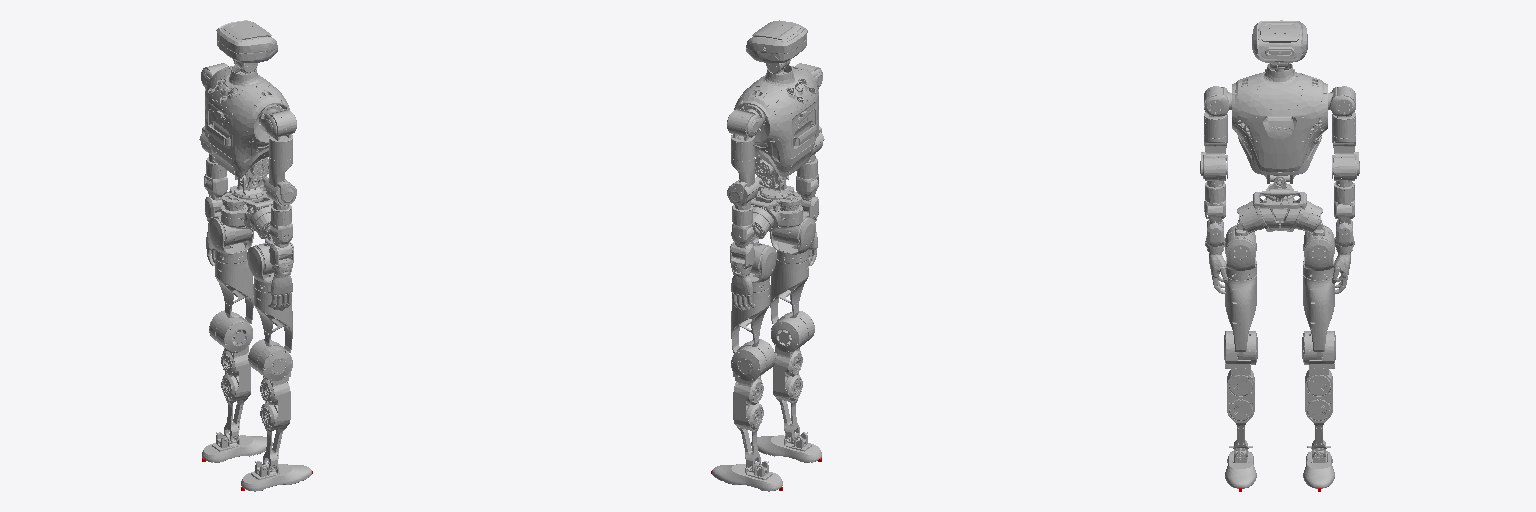
--- Render facts (derived) ---
3 views of the same robot in one strip: view 1: azimuth 30°, elevation 25°; view 2: azimuth 150°, elevation 25°; view 3: azimuth 270°, elevation 25° (orthographic).
Model HU_D04_01 with 42 links and 41 joints (31 revolute, 10 fixed), rooted at base_link, posed every joint at zero.
Visible links, largest first — view 1: waist_pitch_link, right_knee_link, left_hip_yaw_link, head_pitch_link, left_knee_link, base_link, right_hip_yaw_link, right_ankle_roll_link, left_ankle_roll_link, right_wrist_roll_link, right_shoulder_roll_link, left_hip_roll_link (+3 smaller); view 2: waist_pitch_link, left_knee_link, right_hip_yaw_link, head_pitch_link, right_knee_link, base_link, left_hip_yaw_link, left_ankle_roll_link, right_ankle_roll_link, left_wrist_roll_link, left_shoulder_roll_link, right_hip_roll_link (+3 smaller); view 3: waist_pitch_link, base_link, left_knee_link, right_knee_link, head_pitch_link, right_hip_yaw_link, left_hip_yaw_link, right_hip_roll_link, left_hip_roll_link, left_wrist_roll_link, right_wrist_roll_link, right_ankle_roll_link (+8 smaller).
Link boxes in pixels (box(x1,y1,x2,y2)): waist_pitch_link: box(205, 65, 289, 188); right_knee_link: box(257, 346, 292, 471); left_hip_yaw_link: box(215, 258, 253, 352); head_pitch_link: box(216, 20, 277, 72); left_knee_link: box(209, 310, 250, 442); base_link: box(221, 185, 272, 238); right_hip_yaw_link: box(248, 287, 292, 373); right_ankle_roll_link: box(241, 461, 311, 491); left_ankle_roll_link: box(202, 432, 272, 462); right_wrist_roll_link: box(268, 242, 293, 310); right_shoulder_roll_link: box(269, 110, 295, 160); left_hip_roll_link: box(208, 218, 253, 263); waist_pitch_link: box(734, 65, 818, 188); left_knee_link: box(731, 346, 766, 471); right_hip_yaw_link: box(770, 258, 808, 352); head_pitch_link: box(746, 20, 807, 72); right_knee_link: box(773, 311, 814, 442); base_link: box(751, 185, 802, 238); left_hip_yaw_link: box(731, 287, 775, 373); left_ankle_roll_link: box(712, 461, 782, 491); right_ankle_roll_link: box(751, 432, 821, 462); left_wrist_roll_link: box(730, 242, 755, 310); left_shoulder_roll_link: box(728, 110, 754, 160); right_hip_roll_link: box(769, 218, 815, 263); waist_pitch_link: box(1232, 63, 1327, 183); base_link: box(1237, 183, 1322, 233); left_knee_link: box(1305, 331, 1335, 456); right_knee_link: box(1224, 331, 1254, 456); head_pitch_link: box(1252, 20, 1307, 68); right_hip_yaw_link: box(1225, 275, 1257, 364); left_hip_yaw_link: box(1302, 275, 1334, 364); right_hip_roll_link: box(1225, 225, 1256, 280); left_hip_roll_link: box(1303, 225, 1334, 280); left_wrist_roll_link: box(1332, 222, 1354, 293); right_wrist_roll_link: box(1205, 220, 1227, 293); right_ankle_roll_link: box(1225, 446, 1256, 488).
Bounding box of the posed robot: 0.2994 × 0.5293 × 1.62 m (x, y, z).
Meshes: 32 distinct files referenced, 32 mesh visuals loaded (32 binary STL).

robot.urdf — HU_D04_01:
<?xml version="1.0" encoding="utf-8"?>
<robot
  name="HU_D04_01">

  <!-- <link name="root_link">
    <inertial>
      <origin xyz="0 0 0" rpy="0 0 0" />
      <mass value="0.001" />
      <inertia ixx="1E-10" ixy="0" ixz="0" iyy="1E-10" iyz="0" izz="1E-10" />
    </inertial>
  </link>
  <joint name="floating_base_joint" type="floating">
    <origin xyz="0.0 0.0 0.0" rpy="0 0 0" />
    <parent link="root_link" />
    <child link="base_link" />
  </joint> -->


  <link name="base_link">
    <inertial>
      <origin
        xyz="0.002916 -8E-06 0.041359"
        rpy="0 0 0" />
      <mass
        value="5.904962" />
      <inertia
        ixx="0.038209"
        ixy="4E-06"
        ixz="0.001989"
        iyy="0.013916"
        iyz="-8E-06"
        izz="0.040472" />
    </inertial>
    <visual>
      <origin
        xyz="0 0 0"
        rpy="0 0 0" />
      <geometry>
        <mesh
          filename="package://HU_D04_description/meshes/HU_D04_01/base_link.STL" />
      </geometry>
      <material
        name="">
        <color
          rgba="0.75294 0.75294 0.75294 1" />
      </material>
    </visual>
    <!-- <collision>
      <origin
        xyz="0 0 0"
        rpy="0 0 0" />
      <geometry>
        <mesh
          filename="package://HU_D04_description/meshes/HU_D04_01/base_link.STL" />
      </geometry>
    </collision> -->
  </link>
  <link name="left_hip_pitch_link">
    <inertial>
      <origin
        xyz="0.0019 0.001536 -0.086008"
        rpy="0 0 0" />
      <mass
        value="2.255011" />
      <inertia
        ixx="0.003233"
        ixy="2E-06"
        ixz="-1.3E-05"
        iyy="0.003816"
        iyz="3.5E-05"
        izz="0.002888" />
    </inertial>
    <visual>
      <origin
        xyz="0 0 0"
        rpy="0 0 0" />
      <geometry>
        <mesh
          filename="package://HU_D04_description/meshes/HU_D04_01/left_hip_pitch_link.STL" />
      </geometry>
      <material
        name="">
        <color
          rgba="0.75294 0.75294 0.75294 1" />
      </material>
    </visual>
    <!-- <collision>
      <origin
        xyz="0 0 0"
        rpy="0 0 0" />
      <geometry>
        <mesh
          filename="package://HU_D04_description/meshes/HU_D04_01/left_hip_pitch_link.STL" />
      </geometry>
    </collision> -->
  </link>
  <joint name="left_hip_pitch_joint"
    type="revolute">
    <origin
      xyz="0.017007 0.1283 0.0081917"
      rpy="0 0 0" />
    <parent
      link="base_link" />
    <child
      link="left_hip_pitch_link" />
    <axis
      xyz="0 0.90631 -0.42262" />
    <limit
      lower="-2.618"
      upper="2.618"
      effort="140"
      velocity="5" />
  </joint>
  <link name="left_hip_roll_link">
    <inertial>
      <origin
        xyz="0.00075 1E-05 -0.118609"
        rpy="0 0 0" />
      <mass
        value="2.121806" />
      <inertia
        ixx="0.004035"
        ixy="3E-06"
        ixz="-0.000137"
        iyy="0.004267"
        iyz="1E-06"
        izz="0.002342" />
    </inertial>
    <visual>
      <origin
        xyz="0 0 0"
        rpy="0 0 0" />
      <geometry>
        <mesh
          filename="package://HU_D04_description/meshes/HU_D04_01/left_hip_roll_link.STL" />
      </geometry>
      <material
        name="">
        <color
          rgba="0.75294 0.75294 0.75294 1" />
      </material>
    </visual>
    <!-- <collision>
      <origin
        xyz="0 0 0"
        rpy="0 0 0" />
      <geometry>
        <mesh
          filename="package://HU_D04_description/meshes/HU_D04_01/left_hip_roll_link.STL" />
      </geometry>
    </collision> -->
  </link>
  <joint name="left_hip_roll_joint"
    type="revolute">
    <origin
      xyz="-0.01 0.0016596 -0.0920417"
      rpy="0 0 0" />
    <parent
      link="left_hip_pitch_link" />
    <child
      link="left_hip_roll_link" />
    <axis
      xyz="1 0 0" />
    <limit
      lower="-0.8727"
      upper="2.094"
      effort="140"
      velocity="5" />
  </joint>
  <link name="left_hip_yaw_link">
    <inertial>
      <origin
        xyz="0.006364 0.000963 -0.143266"
        rpy="0 0 0" />
      <mass
        value="2.994098" />
      <inertia
        ixx="0.024104"
        ixy="9E-06"
        ixz="-0.001176"
        iyy="0.024609"
        iyz="0.000111"
        izz="0.004856" />
    </inertial>
    <visual>
      <origin
        xyz="0 0 0"
        rpy="0 0 0" />
      <geometry>
        <mesh
          filename="package://HU_D04_description/meshes/HU_D04_01/left_hip_yaw_link.STL" />
      </geometry>
      <material
        name="">
        <color
          rgba="0.75294 0.75294 0.75294 1" />
      </material>
    </visual>
    <!-- <collision>
      <origin
        xyz="0 0 0"
        rpy="0 0 0" />
      <geometry>
        <mesh
          filename="package://HU_D04_description/meshes/HU_D04_01/left_hip_yaw_link.STL" />
      </geometry>
    </collision> -->
  </link>
  <joint name="left_hip_yaw_joint"
    type="revolute">
    <origin
      xyz="0 0 -0.1774"
      rpy="0 0 0" />
    <parent
      link="left_hip_roll_link" />
    <child
      link="left_hip_yaw_link" />
    <axis
      xyz="0 0 1" />
    <limit
      lower="-2.618"
      upper="2.618"
      effort="140"
      velocity="5" />
  </joint>
  <link name="left_knee_link">
    <inertial>
      <origin
        xyz="0.008034 0.005502 -0.139341"
        rpy="0 0 0" />
      <mass
        value="3.004275" />
      <inertia
        ixx="0.026945"
        ixy="9.1E-05"
        ixz="8.3E-05"
        iyy="0.026541"
        iyz="-0.00215"
        izz="0.003135" />
    </inertial>
    <visual>
      <origin
        xyz="0 0 0"
        rpy="0 0 0" />
      <geometry>
        <mesh
          filename="package://HU_D04_description/meshes/HU_D04_01/left_knee_link.STL" />
      </geometry>
      <material
        name="">
        <color
          rgba="0.75294 0.75294 0.75294 1" />
      </material>
    </visual>
    <!-- <collision>
      <origin
        xyz="0 0 0"
        rpy="0 0 0" />
      <geometry>
        <mesh
          filename="package://HU_D04_description/meshes/HU_D04_01/left_knee_link.STL" />
      </geometry>
    </collision> -->
  </link>
  <joint name="left_knee_joint"
    type="revolute">
    <origin
      xyz="0 0 -0.1976"
      rpy="0 0 0" />
    <parent
      link="left_hip_yaw_link" />
    <child
      link="left_knee_link" />
    <axis
      xyz="0 1 0" />
    <limit
      lower="-0.087"
      upper="2.583"
      effort="140"
      velocity="5" />
  </joint>
  <link name="left_ankle_pitch_link">
    <inertial>
      <origin
        xyz="0 0 0.001077"
        rpy="0 0 0" />
      <mass
        value="0.042944" />
      <inertia
        ixx="4E-06"
        ixy="0"
        ixz="0"
        iyy="2E-06"
        iyz="0"
        izz="4E-06" />
    </inertial>
    <visual>
      <origin
        xyz="0 0 0"
        rpy="0 0 0" />
      <geometry>
        <mesh
          filename="package://HU_D04_description/meshes/HU_D04_01/left_ankle_pitch_link.STL" />
      </geometry>
      <material
        name="">
        <color
          rgba="0.75294 0.75294 0.75294 1" />
      </material>
    </visual>
    <!-- <collision>
      <origin
        xyz="0 0 0"
        rpy="0 0 0" />
      <geometry>
        <mesh
          filename="package://HU_D04_description/meshes/HU_D04_01/left_ankle_pitch_link.STL" />
      </geometry>
    </collision> -->
  </link>
  <joint name="left_ankle_pitch_joint"
    type="revolute">
    <origin
      xyz="0 0 -0.385"
      rpy="0 0 0" />
    <parent
      link="left_knee_link" />
    <child
      link="left_ankle_pitch_link" />
    <axis
      xyz="0 1 0" />
    <limit
      lower="-1.012"
      upper="0.611"
      effort="42"
      velocity="13.6" />
  </joint>
  <link name="left_ankle_roll_link">
    <inertial>
      <origin
        xyz="0.009720 0 -0.035233"
        rpy="0 0 0" />
      <mass
        value="1.206425" />
      <inertia
        ixx="0.000924"
        ixy="0"
        ixz="0.000471"
        iyy="0.004760"
        iyz="0"
        izz="0.004924" />
    </inertial>
    <visual>
      <origin
        xyz="0 0 0"
        rpy="0 0 0" />
      <geometry>
        <mesh
          filename="package://HU_D04_description/meshes/HU_D04_01/left_ankle_roll_link.STL" />
      </geometry>
      <material
        name="">
        <color
          rgba="0.75294 0.75294 0.75294 1" />
      </material>
    </visual>
    <collision>
      <origin rpy="0 0 0" xyz="0.018 0 -0.0535"/>
      <geometry>
        <box size="0.25 0.094 0.02"/>
      </geometry>
    </collision>
    <!-- <collision>
      <origin
        xyz="0 0 0"
        rpy="0 0 0" />
      <geometry>
        <mesh
          filename="package://HU_D04_description/meshes/HU_D04_01/left_ankle_roll_link.STL" />
      </geometry>
    </collision> -->
  </link>
  <joint name="left_ankle_roll_joint"
    type="revolute">
    <origin
      xyz="0 0 0"
      rpy="0 0 0" />
    <parent
      link="left_ankle_pitch_link" />
    <child
      link="left_ankle_roll_link" />
    <axis
      xyz="1 0 0" />
    <limit
      lower="-0.436"
      upper="0.436"
      effort="42"
      velocity="13.6" />
  </joint>

  <!-- Left Foot Contact -->
  <joint name="contact_foot_center_joint_L" type="fixed">
    <origin xyz="0.0 0 -0.0625" rpy="0 0 0" />
    <parent link="left_ankle_roll_link" />
    <child link="contact_foot_center_L" />
  </joint>
  <link name="contact_foot_center_L">
    <inertial>
      <origin xyz=".0 .0 .0" rpy="0 0 0" />
      <mass value="0.001" />
      <inertia ixx="0.0000001" ixy="0.0" ixz="0.0" iyy="0.0000001" iyz="0.0" izz="0.0000001" />
    </inertial>
    <visual>
      <origin xyz="0 0 0" rpy="0 0 0" />
      <geometry>
        <box size="0.01 0.01 0.01"/>
      </geometry>
      <material name="">
        <color rgba="1 0 0 1" />
      </material>
    </visual>
  </link>

  <joint name="contact_foot_heel_joint_L" type="fixed">
    <origin xyz="-0.106 0 -0.0625" rpy="0 0 0" />
    <parent link="left_ankle_roll_link" />
    <child link="contact_foot_heel_L" />
  </joint>
  <link name="contact_foot_heel_L">
    <inertial>
      <origin xyz=".0 .0 .0" rpy="0 0 0" />
      <mass value="0.001" />
      <inertia ixx="0.0000001" ixy="0.0" ixz="0.0" iyy="0.0000001" iyz="0.0" izz="0.0000001" />
    </inertial>
    <visual>
      <origin xyz="0 0 0" rpy="0 0 0" />
      <geometry>
        <box size="0.01 0.01 0.01"/>
      </geometry>
      <material name="">
        <color rgba="1 0 0 1" />
      </material>
    </visual>
  </link>

  <joint name="contact_foot_tip_joint_L" type="fixed">
    <origin xyz="0.154 0 -0.0625" rpy="0 0 0" />
    <parent link="left_ankle_roll_link" />
    <child link="contact_foot_tip_L" />
  </joint>
  <link name="contact_foot_tip_L">
    <inertial>
      <origin xyz=".0 .0 .0" rpy="0 0 0" />
      <mass value="0.001" />
      <inertia ixx="0.0000001" ixy="0.0" ixz="0.0" iyy="0.0000001" iyz="0.0" izz="0.0000001" />
    </inertial>
    <visual>
      <origin xyz="0 0 0" rpy="0 0 0" />
      <geometry>
        <box size="0.01 0.01 0.01"/>
      </geometry>
      <material name="">
        <color rgba="1 0 0 1" />
      </material>
    </visual>
  </link>

  <link name="right_hip_pitch_link">
    <inertial>
      <origin
        xyz="0.0019 -0.001536 -0.086008"
        rpy="0 0 0" />
      <mass
        value="2.253993" />
      <inertia
        ixx="0.003231"
        ixy="-1.8E-05"
        ixz="-1.2E-05"
        iyy="0.003814"
        iyz="-2E-06"
        izz="0.002888" />
    </inertial>
    <visual>
      <origin
        xyz="0 0 0"
        rpy="0 0 0" />
      <geometry>
        <mesh
          filename="package://HU_D04_description/meshes/HU_D04_01/right_hip_pitch_link.STL" />
      </geometry>
      <material
        name="">
        <color
          rgba="0.75294 0.75294 0.75294 1" />
      </material>
    </visual>
    <!-- <collision>
      <origin
        xyz="0 0 0"
        rpy="0 0 0" />
      <geometry>
        <mesh
          filename="package://HU_D04_description/meshes/HU_D04_01/right_hip_pitch_link.STL" />
      </geometry>
    </collision> -->
  </link>
  <joint name="right_hip_pitch_joint"
    type="revolute">
    <origin
      xyz="0.017007 -0.1283 0.0081917"
      rpy="0 0 0" />
    <parent
      link="base_link" />
    <child
      link="right_hip_pitch_link" />
    <axis
      xyz="0 0.90631 0.42262" />
    <limit
      lower="-2.618"
      upper="2.618"
      effort="140"
      velocity="5" />
  </joint>
  <link name="right_hip_roll_link">
    <inertial>
      <origin
        xyz="0.000764 1E-05 -0.118627"
        rpy="0 0 0" />
      <mass
        value="2.121322" />
      <inertia
        ixx="0.004031"
        ixy="3E-06"
        ixz="-0.000139"
        iyy="0.004262"
        iyz="1E-06"
        izz="0.00234" />
    </inertial>
    <visual>
      <origin
        xyz="0 0 0"
        rpy="0 0 0" />
      <geometry>
        <mesh
          filename="package://HU_D04_description/meshes/HU_D04_01/right_hip_roll_link.STL" />
      </geometry>
      <material
        name="">
        <color
          rgba="0.75294 0.75294 0.75294 1" />
      </material>
    </visual>
    <!-- <collision>
      <origin
        xyz="0 0 0"
        rpy="0 0 0" />
      <geometry>
        <mesh
          filename="package://HU_D04_description/meshes/HU_D04_01/right_hip_roll_link.STL" />
      </geometry>
    </collision> -->
  </link>
  <joint name="right_hip_roll_joint"
    type="revolute">
    <origin
      xyz="-0.01 -0.0016596 -0.0920417"
      rpy="0 0 0" />
    <parent
      link="right_hip_pitch_link" />
    <child
      link="right_hip_roll_link" />
    <axis
      xyz="1 0 0" />
    <limit
      lower="-2.094"
      upper="0.8727"
      effort="140"
      velocity="5" />
  </joint>
  <link name="right_hip_yaw_link">
    <inertial>
      <origin
        xyz="0.006367 -0.000835 -0.143269"
        rpy="0 0 0" />
      <mass
        value="2.994098" />
      <inertia
        ixx="0.024106"
        ixy="-8E-06"
        ixz="-0.001175"
        iyy="0.02461"
        iyz="-0.000165"
        izz="0.004856" />
    </inertial>
    <visual>
      <origin
        xyz="0 0 0"
        rpy="0 0 0" />
      <geometry>
        <mesh
          filename="package://HU_D04_description/meshes/HU_D04_01/right_hip_yaw_link.STL" />
      </geometry>
      <material
        name="">
        <color
          rgba="0.75294 0.75294 0.75294 1" />
      </material>
    </visual>
    <!-- <collision>
      <origin
        xyz="0 0 0"
        rpy="0 0 0" />
      <geometry>
        <mesh
          filename="package://HU_D04_description/meshes/HU_D04_01/right_hip_yaw_link.STL" />
      </geometry>
    </collision> -->
  </link>
  <joint name="right_hip_yaw_joint"
    type="revolute">
    <origin
      xyz="0 0 -0.1774"
      rpy="0 0 0" />
    <parent
      link="right_hip_roll_link" />
    <child
      link="right_hip_yaw_link" />
    <axis
      xyz="0 0 1" />
    <limit
      lower="-2.618"
      upper="2.618"
      effort="140"
      velocity="5" />
  </joint>
  <link name="right_knee_link">
    <inertial>
      <origin
        xyz="0.007541 -0.00542 -0.140219"
        rpy="0 0 0" />
      <mass
        value="2.944928" />
      <inertia
        ixx="0.026634"
        ixy="-9.1E-05"
        ixz="0.000115"
        iyy="0.026187"
        iyz="0.002135"
        izz="0.00303" />
    </inertial>
    <visual>
      <origin
        xyz="0 0 0"
        rpy="0 0 0" />
      <geometry>
        <mesh
          filename="package://HU_D04_description/meshes/HU_D04_01/right_knee_link.STL" />
      </geometry>
      <material
        name="">
        <color
          rgba="0.75294 0.75294 0.75294 1" />
      </material>
    </visual>
    <!-- <collision>
      <origin
        xyz="0 0 0"
        rpy="0 0 0" />
      <geometry>
        <mesh
          filename="package://HU_D04_description/meshes/HU_D04_01/right_knee_link.STL" />
      </geometry>
    </collision> -->
  </link>
  <joint name="right_knee_joint"
    type="revolute">
    <origin
      xyz="0 0 -0.1976"
      rpy="0 0 0" />
    <parent
      link="right_hip_yaw_link" />
    <child
      link="right_knee_link" />
    <axis
      xyz="0 1 0" />
    <limit
      lower="-0.087"
      upper="2.583"
      effort="140"
      velocity="5" />
  </joint>
  <link name="right_ankle_pitch_link">
    <inertial>
      <origin
        xyz="0 0 0.001077"
        rpy="0 0 0" />
      <mass
        value="0.042944" />
      <inertia
        ixx="4E-06"
        ixy="0"
        ixz="0"
        iyy="2E-06"
        iyz="0"
        izz="4E-06" />
    </inertial>
    <visual>
      <origin
        xyz="0 0 0"
        rpy="0 0 0" />
      <geometry>
        <mesh
          filename="package://HU_D04_description/meshes/HU_D04_01/right_ankle_pitch_link.STL" />
      </geometry>
      <material
        name="">
        <color
          rgba="0.75294 0.75294 0.75294 1" />
      </material>
    </visual>
    <!-- <collision>
      <origin
        xyz="0 0 0"
        rpy="0 0 0" />
      <geometry>
        <mesh
          filename="package://HU_D04_description/meshes/HU_D04_01/right_ankle_pitch_link.STL" />
      </geometry>
    </collision> -->
  </link>
  <joint name="right_ankle_pitch_joint"
    type="revolute">
    <origin
      xyz="0 0 -0.385"
      rpy="0 0 0" />
    <parent
      link="right_knee_link" />
    <child
      link="right_ankle_pitch_link" />
    <axis
      xyz="0 1 0" />
    <limit
      lower="-1.012"
      upper="0.611"
      effort="42"
      velocity="13.6" />
  </joint>
  <link name="right_ankle_roll_link">
    <inertial>
      <origin
        xyz="0.009720 0 -0.035233"
        rpy="0 0 0" />
      <mass
        value="1.206425" />
      <inertia
        ixx="0.000924"
        ixy="0"
        ixz="0.000471"
        iyy="0.004760"
        iyz="0"
        izz="0.004924" />
    </inertial>
    <visual>
      <origin
        xyz="0 0 0"
        rpy="0 0 0" />
      <geometry>
        <mesh
          filename="package://HU_D04_description/meshes/HU_D04_01/right_ankle_roll_link.STL" />
      </geometry>
      <material
        name="">
        <color
          rgba="0.75294 0.75294 0.75294 1" />
      </material>
    </visual>
    <collision>
      <origin rpy="0 0 0" xyz="0.018 0 -0.0535"/>
      <geometry>
        <box size="0.25 0.094 0.02"/>
      </geometry>
    </collision>
    <!-- <collision>
      <origin
        xyz="0 0 0"
        rpy="0 0 0" />
      <geometry>
        <mesh
          filename="package://HU_D04_description/meshes/HU_D04_01/right_ankle_roll_link.STL" />
      </geometry>
    </collision> -->
  </link>
  <joint name="right_ankle_roll_joint"
    type="revolute">
    <origin
      xyz="0 0 0"
      rpy="0 0 0" />
    <parent
      link="right_ankle_pitch_link" />
    <child
      link="right_ankle_roll_link" />
    <axis
      xyz="1 0 0" />
    <limit
      lower="-0.436"
      upper="0.436"
      effort="42"
      velocity="13.6" />
  </joint>

  <!-- Right Foot Contact -->
  <joint name="contact_foot_center_joint_R" type="fixed">
    <origin xyz="0.0 0 -0.0625" rpy="0 0 0" />
    <parent link="right_ankle_roll_link" />
    <child link="contact_foot_center_R" />
  </joint>
  <link name="contact_foot_center_R">
    <inertial>
      <origin xyz=".0 .0 .0" rpy="0 0 0" />
      <mass value="0.001" />
      <inertia ixx="0.0000001" ixy="0.0" ixz="0.0" iyy="0.0000001" iyz="0.0" izz="0.0000001" />
    </inertial>
    <visual>
      <origin xyz="0 0 0" rpy="0 0 0" />
      <geometry>
        <box size="0.01 0.01 0.01"/>
      </geometry>
      <material name="">
        <color rgba="1 0 0 1" />
      </material>
    </visual>
  </link>

  <joint name="contact_foot_heel_joint_R" type="fixed">
    <origin xyz="-0.106 0 -0.0625" rpy="0 0 0" />
    <parent link="right_ankle_roll_link" />
    <child link="contact_foot_heel_R" />
  </joint>
  <link name="contact_foot_heel_R">
    <inertial>
      <origin xyz=".0 .0 .0" rpy="0 0 0" />
      <mass value="0.001" />
      <inertia ixx="0.0000001" ixy="0.0" ixz="0.0" iyy="0.0000001" iyz="0.0" izz="0.0000001" />
    </inertial>
    <visual>
      <origin xyz="0 0 0" rpy="0 0 0" />
      <geometry>
        <box size="0.01 0.01 0.01"/>
      </geometry>
      <material name="">
        <color rgba="1 0 0 1" />
      </material>
    </visual>
  </link>

  <joint name="contact_foot_tip_joint_R" type="fixed">
    <origin xyz="0.154 0 -0.0625" rpy="0 0 0" />
    <parent link="right_ankle_roll_link" />
    <child link="contact_foot_tip_R" />
  </joint>
  <link name="contact_foot_tip_R">
    <inertial>
      <origin xyz=".0 .0 .0" rpy="0 0 0" />
      <mass value="0.001" />
      <inertia ixx="0.0000001" ixy="0.0" ixz="0.0" iyy="0.0000001" iyz="0.0" izz="0.0000001" />
    </inertial>
    <visual>
      <origin xyz="0 0 0" rpy="0 0 0" />
      <geometry>
        <box size="0.01 0.01 0.01"/>
      </geometry>
      <material name="">
        <color rgba="1 0 0 1" />
      </material>
    </visual>
  </link>

  <link name="waist_yaw_link">
    <inertial>
      <origin
        xyz="0.019885 -0.000163 0.029632"
        rpy="0 0 0" />
      <mass
        value="0.654749" />
      <inertia
        ixx="0.000616"
        ixy="-5E-06"
        ixz="-2.1E-05"
        iyy="0.001108"
        iyz="1E-06"
        izz="0.001156" />
    </inertial>
    <visual>
      <origin
        xyz="0 0 0"
        rpy="0 0 0" />
      <geometry>
        <mesh
          filename="package://HU_D04_description/meshes/HU_D04_01/waist_yaw_link.STL" />
      </geometry>
      <material
        name="">
        <color
          rgba="0.75294 0.75294 0.75294 1" />
      </material>
    </visual>
    <!-- <collision>
      <origin
        xyz="0 0 0"
        rpy="0 0 0" />
      <geometry>
        <mesh
          filename="package://HU_D04_description/meshes/HU_D04_01/waist_yaw_link.STL" />
      </geometry>
    </collision> -->
  </link>
  <joint name="waist_yaw_joint"
    type="revolute">
    <origin
      xyz="0 0 0.10239"
      rpy="0 0 0" />
    <parent
      link="base_link" />
    <child
      link="waist_yaw_link" />
    <axis
      xyz="0 0 1" />
    <limit
      lower="-2.618"
      upper="2.618"
      effort="42"
      velocity="13.6" />
  </joint>
  <link name="waist_roll_link">
    <inertial>
      <origin
        xyz="0 0 -0.000149"
        rpy="0 0 0" />
      <mass
        value="0.291501" />
      <inertia
        ixx="0.00016"
        ixy="0"
        ixz="0"
        iyy="3.6E-05"
        iyz="0"
        izz="0.000164" />
    </inertial>
    <visual>
      <origin
        xyz="0 0 0"
        rpy="0 0 0" />
      <geometry>
        <mesh
          filename="package://HU_D04_description/meshes/HU_D04_01/waist_roll_link.STL" />
      </geometry>
      <material
        name="">
        <color
          rgba="0.75294 0.75294 0.75294 1" />
      </material>
    </visual>
    <!-- <collision>
      <origin
        xyz="0 0 0"
        rpy="0 0 0" />
      <geometry>
        <mesh
          filename="package://HU_D04_description/meshes/HU_D04_01/waist_roll_link.STL" />
      </geometry>
    </collision> -->
  </link>
  <joint name="waist_roll_joint"
    type="revolute">
    <origin
      xyz="0 0 0.057"
      rpy="0 0 0" />
    <parent
      link="waist_yaw_link" />
    <child
      link="waist_roll_link" />
    <axis
      xyz="1 0 0" />
    <limit
      lower="-0.524"
      upper="0.524"
      effort="42"
      velocity="13.6" />
  </joint>
  <link name="waist_pitch_link">
    <inertial>
      <origin
        xyz="-0.006815 0.000038 0.196229"
        rpy="0 0 0" />
      <mass
        value="11.882244" />
      <inertia
        ixx="0.169231"
        ixy="0.000065"
        ixz="0.000953"
        iyy="0.136241"
        iyz="-0.000057"
        izz="0.104458" />
    </inertial>
    <visual>
      <origin
        xyz="0 0 0"
        rpy="0 0 0" />
      <geometry>
        <mesh
          filename="package://HU_D04_description/meshes/HU_D04_01/waist_pitch_link.STL" />
      </geometry>
      <material
        name="">
        <color
          rgba="0.75294 0.75294 0.75294 1" />
      </material>
    </visual>
    <!-- <collision>
      <origin
        xyz="0 0 0"
        rpy="0 0 0" />
      <geometry>
        <mesh
          filename="package://HU_D04_description/meshes/HU_D04_01/waist_pitch_link.STL" />
      </geometry>
    </collision> -->
  </link>
  <joint name="waist_pitch_joint"
    type="revolute">
    <origin
      xyz="0 0 0"
      rpy="0 0 0" />
    <parent
      link="waist_roll_link" />
    <child
      link="waist_pitch_link" />
    <axis
      xyz="0 1 0" />
    <limit
      lower="-0.524"
      upper="0.785"
      effort="42"
      velocity="13.6" />
  </joint>
  
  <link name="left_shoulder_pitch_link">
    <inertial>
      <origin
        xyz="0.003151 0.031104 -2.2E-05"
        rpy="0 0 0" />
      <mass
        value="0.244765" />
      <inertia
        ixx="0.000253"
        ixy="-2.3E-05"
        ixz="0"
        iyy="0.000367"
        iyz="0"
        izz="0.000429" />
    </inertial>
    <visual>
      <origin
        xyz="0 0 0"
        rpy="0 0 0" />
      <geometry>
        <mesh
          filename="package://HU_D04_description/meshes/HU_D04_01/left_shoulder_pitch_link.STL" />
      </geometry>
      <material
        name="">
        <color
          rgba="0.75294 0.75294 0.75294 1" />
      </material>
    </visual>
    <!-- <collision>
      <origin
        xyz="0 0 0"
        rpy="0 0 0" />
      <geometry>
        <mesh
          filename="package://HU_D04_description/meshes/HU_D04_01/left_shoulder_pitch_link.STL" />
      </geometry>
    </collision> -->
  </link>
  <joint name="left_shoulder_pitch_joint"
    type="revolute">
    <origin
      xyz="0 0.1589 0.2822"
      rpy="0 0 0" />
    <parent
      link="waist_pitch_link" />
    <child
      link="left_shoulder_pitch_link" />
    <axis
      xyz="0 1 0" />
    <limit
      lower="-2.792"
      upper="2.792"
      effort="42"
      velocity="19.6" />
  </joint>
  <link name="left_shoulder_roll_link">
    <inertial>
      <origin
        xyz="0.003525 8.8E-05 -0.046695"
        rpy="0 0 0" />
      <mass
        value="1.740745" />
      <inertia
        ixx="0.004948"
        ixy="0"
        ixz="-0.000258"
        iyy="0.004931"
        iyz="2E-06"
        izz="0.001384" />
    </inertial>
    <visual>
      <origin
        xyz="0 0 0"
        rpy="0 0 0" />
      <geometry>
        <mesh
          filename="package://HU_D04_description/meshes/HU_D04_01/left_shoulder_roll_link.STL" />
      </geometry>
      <material
        name="">
        <color
          rgba="0.75294 0.75294 0.75294 1" />
      </material>
    </visual>
    <!-- <collision>
      <origin
        xyz="0 0 0"
        rpy="0 0 0" />
      <geometry>
        <mesh
          filename="package://HU_D04_description/meshes/HU_D04_01/left_shoulder_roll_link.STL" />
      </geometry>
    </collision> -->
  </link>
  <joint name="left_shoulder_roll_joint"
    type="revolute">
    <origin
      xyz="0 0.055 0"
      rpy="0 0 0" />
    <parent
      link="left_shoulder_pitch_link" />
    <child
      link="left_shoulder_roll_link" />
    <axis
      xyz="1 0 0" />
    <limit
      lower="-0.087"
      upper="3.229"
      effort="42"
      velocity="19.6" />
  </joint>
  <link name="left_shoulder_yaw_link">
    <inertial>
      <origin
        xyz="-0.010067 0.003571 -0.065207"
        rpy="0 0 0" />
      <mass
        value="0.307657" />
      <inertia
        ixx="0.000874"
        ixy="-8E-06"
        ixz="-1.9E-05"
        iyy="0.000738"
        iyz="3.4E-05"
        izz="0.000405" />
    </inertial>
    <visual>
      <origin
        xyz="0 0 0"
        rpy="0 0 0" />
      <geometry>
        <mesh
          filename="package://HU_D04_description/meshes/HU_D04_01/left_shoulder_yaw_link.STL" />
      </geometry>
      <material
        name="">
        <color
          rgba="0.75294 0.75294 0.75294 1" />
      </material>
    </visual>
    <!-- <collision>
      <origin
        xyz="0 0 0"
        rpy="0 0 0" />
      <geometry>
        <mesh
          filename="package://HU_D04_description/meshes/HU_D04_01/left_shoulder_yaw_link.STL" />
      </geometry>
    </collision> -->
  </link>
  <joint name="left_shoulder_yaw_joint"
    type="revolute">
    <origin
      xyz="0 0 -0.1306"
      rpy="0 0 0" />
    <parent
      link="left_shoulder_roll_link" />
    <child
      link="left_shoulder_yaw_link" />
    <axis
      xyz="0 0 1" />
    <limit
      lower="-3.403"
      upper="1.571"
      effort="42"
      velocity="19.6" />
  </joint>
  <link name="left_elbow_link">
    <inertial>
      <origin
        xyz="0.000057 0.004497 -0.027441"
        rpy="0 0 0" />
      <mass
        value="1.275459" />
      <inertia
        ixx="0.002852"
        ixy="-0.000003"
        ixz="0.000017"
        iyy="0.002876"
        iyz="-0.000129"
        izz="0.000888" />
    </inertial>
    <visual>
      <origin
        xyz="0 0 0"
        rpy="0 0 0" />
      <geometry>
        <mesh
          filename="package://HU_D04_description/meshes/HU_D04_01/left_elbow_link.STL" />
      </geometry>
      <material
        name="">
        <color
          rgba="0.75294 0.75294 0.75294 1" />
      </material>
    </visual>
    <!-- <collision>
      <origin
        xyz="0 0 0"
        rpy="0 0 0" />
      <geometry>
        <mesh
          filename="package://HU_D04_description/meshes/HU_D04_01/left_elbow_link.STL" />
      </geometry>
    </collision> -->
  </link>
  <joint name="left_elbow_joint"
    type="revolute">
    <origin
      xyz="0 0 -0.1157"
      rpy="0 0 0" />
    <parent
      link="left_shoulder_yaw_link" />
    <child
      link="left_elbow_link" />
    <axis
      xyz="0 1 0" />
    <limit
      lower="-2.443"
      upper="1.571"
      effort="42"
      velocity="19.6" />
  </joint>
  <link name="left_wrist_yaw_link">
    <inertial>
      <origin
        xyz="-0.002420 0.000421 -0.014840"
        rpy="0 0 0" />
      <mass
        value="0.132906" />
      <inertia
        ixx="0.000145"
        ixy="0"
        ixz="0"
        iyy="0.000086"
        iyz="0.000001"
        izz="0.000142" />
    </inertial>
    <visual>
      <origin
        xyz="0 0 0"
        rpy="0 0 0" />
      <geometry>
        <mesh
          filename="package://HU_D04_description/meshes/HU_D04_01/left_wrist_yaw_link.STL" />
      </geometry>
      <material
        name="">
        <color
          rgba="0.75294 0.75294 0.75294 1" />
      </material>
    </visual>
    <!-- <collision>
      <origin
        xyz="0 0 0"
        rpy="0 0 0" />
      <geometry>
        <mesh
          filename="package://HU_D04_description/meshes/HU_D04_01/left_wrist_yaw_link.STL" />
      </geometry>
    </collision> -->
  </link>
  <joint name="left_wrist_yaw_joint"
    type="revolute">
    <origin
      xyz="0 0.001 -0.1188"
      rpy="0 0 0" />
    <parent
      link="left_elbow_link" />
    <child
      link="left_wrist_yaw_link" />
    <axis
      xyz="0 0 1" />
    <limit
      lower="-2.356"
      upper="0.785"
      effort="19"
      velocity="13" />
  </joint>
  <link name="left_wrist_pitch_link">
    <inertial>
      <origin
        xyz="0.001436 0.001303 -0.032233"
        rpy="0 0 0" />
      <mass
        value="0.658602" />
      <inertia
        ixx="0.000952"
        ixy="0.000001"
        ixz="0.000028"
        iyy="0.000963"
        iyz="-0.000024"
        izz="0.000296" />
    </inertial>
    <visual>
      <origin
        xyz="0 0 0"
        rpy="0 0 0" />
      <geometry>
        <mesh
          filename="package://HU_D04_description/meshes/HU_D04_01/left_wrist_pitch_link.STL" />
      </geometry>
      <material
        name="">
        <color
          rgba="0.75294 0.75294 0.75294 1" />
      </material>
    </visual>
    <!-- <collision>
      <origin
        xyz="0 0 0"
        rpy="0 0 0" />
      <geometry>
        <mesh
          filename="package://HU_D04_description/meshes/HU_D04_01/left_wrist_pitch_link.STL" />
      </geometry>
    </collision> -->
  </link>
  <joint name="left_wrist_pitch_joint"
    type="revolute">
    <origin
      xyz="0 0 -0.0342"
      rpy="0 0 0" />
    <parent
      link="left_wrist_yaw_link" />
    <child
      link="left_wrist_pitch_link" />
    <axis
      xyz="0 1 0" />
    <limit
      lower="-1.571"
      upper="1.571"
      effort="19"
      velocity="13" />
  </joint>
  <link name="left_wrist_roll_link">
    <inertial>
      <origin
        xyz="0.004695 -0.002046 -0.088776"
        rpy="0 0 0" />
      <mass
        value="0.581445" />
      <inertia
        ixx="0.002124"
        ixy="0.000029"
        ixz="0.000060"
        iyy="0.002273"
        iyz="-0.000084"
        izz="0.000445" />
    </inertial>
    <visual>
      <origin
        xyz="0 0 0"
        rpy="0 0 0" />
      <geometry>
        <mesh
          filename="package://HU_D04_description/meshes/HU_D04_01/left_wrist_roll_link.STL" />
      </geometry>
      <material
        name="">
        <color
          rgba="0.75294 0.75294 0.75294 1" />
      </material>
    </visual>
    <!-- <collision>
      <origin
        xyz="0 0 0"
        rpy="0 0 0" />
      <geometry>
        <mesh
          filename="package://HU_D04_description/meshes/HU_D04_01/left_wrist_roll_link.STL" />
      </geometry>
    </collision> -->
  </link>
  <joint name="left_wrist_roll_joint"
    type="revolute">
    <origin
      xyz="0 0 -0.065"
      rpy="0 0 0" />
    <parent
      link="left_wrist_pitch_link" />
    <child
      link="left_wrist_roll_link" />
    <axis
      xyz="1 0 0" />
    <limit
      lower="-1.571"
      upper="1.571"
      effort="19"
      velocity="13" />
  </joint>

  <!-- Left hand Contact -->
  <joint name="left_hand_contact_joint" type="fixed">
    <origin xyz="0 0 -0.058" rpy="0 0 0" />
    <parent link="left_wrist_roll_link" />
    <child link="left_hand_contact" />
  </joint>
  <link name="left_hand_contact">
    <inertial>
      <origin xyz=".0 .0 .0" rpy="0 0 0" />
      <mass value="0.001" />
      <inertia 
        ixx="0.0000001" 
        ixy="0.0" 
        ixz="0.0" 
        iyy="0.0000001" 
        iyz="0.0" 
        izz="0.0000001" />
    </inertial>
    <visual>
      <origin xyz="0 0 0" rpy="0 0 0" />
      <geometry>
        <box size="0.01 0.01 0.01"/>
      </geometry>
      <material name="">
        <color rgba="1 0 0 1" />
      </material>
    </visual>
  </link>

  <!-- Left hand For Manipulation -->
  <joint name="left_hand_manip_joint" type="fixed">
    <origin xyz="0 0 -0.058" rpy="0 1.5708 0" />
    <parent link="left_wrist_roll_link" />
    <child link="left_hand_manip" />
  </joint>
  <link name="left_hand_manip">
    <inertial>
      <origin xyz=".0 .0 .0" rpy="0 0 0" />
      <mass value="0.001" />
      <inertia 
        ixx="0.0000001" 
        ixy="0.0" 
        ixz="0.0" 
        iyy="0.0000001" 
        iyz="0.0" 
        izz="0.0000001" />
    </inertial>
    <visual>
      <origin xyz="0 0 0" rpy="0 0 0" />
      <geometry>
        <box size="0.01 0.01 0.01"/>
      </geometry>
      <material name="">
        <color rgba="1 0 0 1" />
      </material>
    </visual>
  </link>

  <link name="right_shoulder_pitch_link">
    <inertial>
      <origin
        xyz="0.003151 -0.031104 -2.2E-05"
        rpy="0 0 0" />
      <mass
        value="0.244765" />
      <inertia
        ixx="0.000253"
        ixy="2.3E-05"
        ixz="0"
        iyy="0.000367"
        iyz="0"
        izz="0.000429" />
    </inertial>
    <visual>
      <origin
        xyz="0 0 0"
        rpy="0 0 0" />
      <geometry>
        <mesh
          filename="package://HU_D04_description/meshes/HU_D04_01/right_shoulder_pitch_link.STL" />
      </geometry>
      <material
        name="">
        <color
          rgba="0.75294 0.75294 0.75294 1" />
      </material>
    </visual>
    <!-- <collision>
      <origin
        xyz="0 0 0"
        rpy="0 0 0" />
      <geometry>
        <mesh
          filename="package://HU_D04_description/meshes/HU_D04_01/right_shoulder_pitch_link.STL" />
      </geometry>
    </collision> -->
  </link>
  <joint name="right_shoulder_pitch_joint"
    type="revolute">
    <origin
      xyz="0 -0.1589 0.2822"
      rpy="0 0 0" />
    <parent
      link="waist_pitch_link" />
    <child
      link="right_shoulder_pitch_link" />
    <axis
      xyz="0 1 0" />
    <limit
      lower="-2.792"
      upper="2.792"
      effort="42"
      velocity="19.6" />
  </joint>
  <link name="right_shoulder_roll_link">
    <inertial>
      <origin
        xyz="0.003553 8E-05 -0.046159"
        rpy="0 0 0" />
      <mass
        value="1.727406" />
      <inertia
        ixx="0.00488"
        ixy="2E-06"
        ixz="-0.000255"
        iyy="0.004864"
        iyz="1E-06"
        izz="0.001378" />
    </inertial>
    <visual>
      <origin
        xyz="0 0 0"
        rpy="0 0 0" />
      <geometry>
        <mesh
          filename="package://HU_D04_description/meshes/HU_D04_01/right_shoulder_roll_link.STL" />
      </geometry>
      <material
        name="">
        <color
          rgba="0.75294 0.75294 0.75294 1" />
      </material>
    </visual>
    <!-- <collision>
      <origin
        xyz="0 0 0"
        rpy="0 0 0" />
      <geometry>
        <mesh
          filename="package://HU_D04_description/meshes/HU_D04_01/right_shoulder_roll_link.STL" />
      </geometry>
    </collision> -->
  </link>
  <joint name="right_shoulder_roll_joint"
    type="revolute">
    <origin
      xyz="0 -0.055 0"
      rpy="0 0 0" />
    <parent
      link="right_shoulder_pitch_link" />
    <child
      link="right_shoulder_roll_link" />
    <axis
      xyz="1 0 0" />
    <limit
      lower="-3.229"
      upper="0.087"
      effort="42"
      velocity="19.6" />
  </joint>
  <link name="right_shoulder_yaw_link">
    <inertial>
      <origin
        xyz="-0.009999 -0.003523 -0.06579"
        rpy="0 0 0" />
      <mass
        value="0.306436" />
      <inertia
        ixx="0.000871"
        ixy="9E-06"
        ixz="-1.9E-05"
        iyy="0.000736"
        iyz="-3.8E-05"
        izz="0.000405" />
    </inertial>
    <visual>
      <origin
        xyz="0 0 0"
        rpy="0 0 0" />
      <geometry>
        <mesh
          filename="package://HU_D04_description/meshes/HU_D04_01/right_shoulder_yaw_link.STL" />
      </geometry>
      <material
        name="">
        <color
          rgba="0.75294 0.75294 0.75294 1" />
      </material>
    </visual>
    <!-- <collision>
      <origin
        xyz="0 0 0"
        rpy="0 0 0" />
      <geometry>
        <mesh
          filename="package://HU_D04_description/meshes/HU_D04_01/right_shoulder_yaw_link.STL" />
      </geometry>
    </collision> -->
  </link>
  <joint name="right_shoulder_yaw_joint"
    type="revolute">
    <origin
      xyz="0 0 -0.1306"
      rpy="0 0 0" />
    <parent
      link="right_shoulder_roll_link" />
    <child
      link="right_shoulder_yaw_link" />
    <axis
      xyz="0 0 1" />
    <limit
      lower="-1.571"
      upper="3.403"
      effort="42"
      velocity="19.6" />
  </joint>
  <link name="right_elbow_link">
    <inertial>
      <origin
        xyz="0.000057 -0.004497 -0.027441"
        rpy="0 0 0" />
      <mass
        value="1.275459" />
      <inertia
        ixx="0.002852"
        ixy="0.000003"
        ixz="0.000017"
        iyy="0.002876"
        iyz="0.000129"
        izz="0.000888" />
    </inertial>
    <visual>
      <origin
        xyz="0 0 0"
        rpy="0 0 0" />
      <geometry>
        <mesh
          filename="package://HU_D04_description/meshes/HU_D04_01/right_elbow_link.STL" />
      </geometry>
      <material
        name="">
        <color
          rgba="0.75294 0.75294 0.75294 1" />
      </material>
    </visual>
    <!-- <collision>
      <origin
        xyz="0 0 0"
        rpy="0 0 0" />
      <geometry>
        <mesh
          filename="package://HU_D04_description/meshes/HU_D04_01/right_elbow_link.STL" />
      </geometry>
    </collision> -->
  </link>
  <joint name="right_elbow_joint"
    type="revolute">
    <origin
      xyz="0 0 -0.1157"
      rpy="0 0 0" />
    <parent
      link="right_shoulder_yaw_link" />
    <child
      link="right_elbow_link" />
    <axis
      xyz="0 1 0" />
    <limit
      lower="-2.443"
      upper="1.571"
      effort="42"
      velocity="19.6" />
  </joint>
  <link name="right_wrist_yaw_link">
    <inertial>
      <origin
        xyz="-0.002420 -0.000421 -0.014840"
        rpy="0 0 0" />
      <mass
        value="0.132906" />
      <inertia
        ixx="0.000145"
        ixy="0"
        ixz="0"
        iyy="0.000086"
        iyz="-0.000001"
        izz="0.000142" />
    </inertial>
    <visual>
      <origin
        xyz="0 0 0"
        rpy="0 0 0" />
      <geometry>
        <mesh
          filename="package://HU_D04_description/meshes/HU_D04_01/right_wrist_yaw_link.STL" />
      </geometry>
      <material
        name="">
        <color
          rgba="0.75294 0.75294 0.75294 1" />
      </material>
    </visual>
    <!-- <collision>
      <origin
        xyz="0 0 0"
        rpy="0 0 0" />
      <geometry>
        <mesh
          filename="package://HU_D04_description/meshes/HU_D04_01/right_wrist_yaw_link.STL" />
      </geometry>
    </collision> -->
  </link>
  <joint name="right_wrist_yaw_joint"
    type="revolute">
    <origin
      xyz="0 -0.001 -0.1188"
      rpy="0 0 0" />
    <parent
      link="right_elbow_link" />
    <child
      link="right_wrist_yaw_link" />
    <axis
      xyz="0 0 1" />
    <limit
      lower="-0.785"
      upper="2.356"
      effort="19"
      velocity="13" />
  </joint>
  <link name="right_wrist_pitch_link">
    <inertial>
      <origin
        xyz="0.001436 -0.001303 -0.032233"
        rpy="0 0 0" />
      <mass
        value="0.658602" />
      <inertia
        ixx="0.000952"
        ixy="-0.000001"
        ixz="0.000028"
        iyy="0.000963"
        iyz="0.000024"
        izz="0.000296" />
    </inertial>
    <visual>
      <origin
        xyz="0 0 0"
        rpy="0 0 0" />
      <geometry>
        <mesh
          filename="package://HU_D04_description/meshes/HU_D04_01/right_wrist_pitch_link.STL" />
      </geometry>
      <material
        name="">
        <color
          rgba="0.75294 0.75294 0.75294 1" />
      </material>
    </visual>
    <!-- <collision>
      <origin
        xyz="0 0 0"
        rpy="0 0 0" />
      <geometry>
        <mesh
          filename="package://HU_D04_description/meshes/HU_D04_01/right_wrist_pitch_link.STL" />
      </geometry>
    </collision> -->
  </link>
  <joint name="right_wrist_pitch_joint"
    type="revolute">
    <origin
      xyz="0 0 -0.0342"
      rpy="0 0 0" />
    <parent
      link="right_wrist_yaw_link" />
    <child
      link="right_wrist_pitch_link" />
    <axis
      xyz="0 1 0" />
    <limit
      lower="-1.571"
      upper="1.571"
      effort="19"
      velocity="13" />
  </joint>
  <link name="right_wrist_roll_link">
    <inertial>
      <origin
        xyz="0.004695 0.002046 -0.088776"
        rpy="0 0 0" />
      <mass
        value="0.581445" />
      <inertia
        ixx="0.002124"
        ixy="-0.000029"
        ixz="0.000060"
        iyy="0.002273"
        iyz="0.000084"
        izz="0.000445" />
    </inertial>
    <visual>
      <origin
        xyz="0 0 0"
        rpy="0 0 0" />
      <geometry>
        <mesh
          filename="package://HU_D04_description/meshes/HU_D04_01/right_wrist_roll_link.STL" />
      </geometry>
      <material
        name="">
        <color
          rgba="0.75294 0.75294 0.75294 1" />
      </material>
    </visual>
    <!-- <collision>
      <origin
        xyz="0 0 0"
        rpy="0 0 0" />
      <geometry>
        <mesh
          filename="package://HU_D04_description/meshes/HU_D04_01/right_wrist_roll_link.STL" />
      </geometry>
    </collision> -->
  </link>
  <joint name="right_wrist_roll_joint"
    type="revolute">
    <origin
      xyz="0 0 -0.065"
      rpy="0 0 0" />
    <parent
      link="right_wrist_pitch_link" />
    <child
      link="right_wrist_roll_link" />
    <axis
      xyz="1 0 0" />
    <limit
      lower="-1.571"
      upper="1.571"
      effort="19"
      velocity="13" />
  </joint>

  <!-- Right hand Contact -->
  <joint name="right_hand_contact_joint" type="fixed">
    <origin xyz="0 0 -0.058" rpy="0 0 0" />
    <parent link="right_wrist_roll_link" />
    <child link="right_hand_contact" />
  </joint>
  <link name="right_hand_contact">
    <inertial>
      <origin xyz=".0 .0 .0" rpy="0 0 0" />
      <mass value="0.001" />
      <inertia 
        ixx="0.0000001" 
        ixy="0.0" 
        ixz="0.0" 
        iyy="0.0000001" 
        iyz="0.0" 
        izz="0.0000001" />
    </inertial>
    <visual>
      <origin xyz="0 0 0" rpy="0 0 0" />
      <geometry>
        <box size="0.01 0.01 0.01"/>
      </geometry>
      <material name="">
        <color rgba="1 0 0 1" />
      </material>
    </visual>
  </link>

  <!-- Right hand For Manipulation -->
  <joint name="right_hand_manip_joint" type="fixed">
    <origin xyz="0 0 -0.058" rpy="0 1.5708 0" />
    <parent link="right_wrist_roll_link" />
    <child link="right_hand_manip" />
  </joint>
  <link name="right_hand_manip">
    <inertial>
      <origin xyz=".0 .0 .0" rpy="0 0 0" />
      <mass value="0.001" />
      <inertia 
        ixx="0.0000001" 
        ixy="0.0" 
        ixz="0.0" 
        iyy="0.0000001" 
        iyz="0.0" 
        izz="0.0000001" />
    </inertial>
    <visual>
      <origin xyz="0 0 0" rpy="0 0 0" />
      <geometry>
        <box size="0.01 0.01 0.01"/>
      </geometry>
      <material name="">
        <color rgba="1 0 0 1" />
      </material>
    </visual>
  </link>
  
  <link name="head_yaw_link">
    <inertial>
      <origin
        xyz="-7E-05 0.002132 0.037884"
        rpy="0 0 0" />
      <mass
        value="0.35819" />
      <inertia
        ixx="0.000163"
        ixy="0"
        ixz="2E-06"
        iyy="0.000162"
        iyz="2E-06"
        izz="0.000146" />
    </inertial>
    <visual>
      <origin
        xyz="0 0 0"
        rpy="0 0 0" />
      <geometry>
        <mesh
          filename="package://HU_D04_description/meshes/HU_D04_01/neck_yaw_link.STL" />
      </geometry>
      <material
        name="">
        <color
          rgba="0.75294 0.75294 0.75294 1" />
      </material>
    </visual>
    <!-- <collision>
      <origin
        xyz="0 0 0"
        rpy="0 0 0" />
      <geometry>
        <mesh
          filename="package://HU_D04_description/meshes/HU_D04_01/neck_yaw_link.STL" />
      </geometry>
    </collision> -->
  </link>
  <joint name="head_yaw_joint"
    type="revolute">
    <origin
      xyz="-0.013 0 0.3882"
      rpy="0 0 0" />
    <parent
      link="waist_pitch_link" />
    <child
      link="head_yaw_link" />
    <axis
      xyz="0 0 1" />
    <limit
      lower="-0.785"
      upper="0.785"
      effort="19"
      velocity="13" />
  </joint>
  <link name="head_pitch_link">
    <inertial>
      <origin
        xyz="0.010255 -0.000319 0.069397"
        rpy="0 0 0" />
      <mass
        value="0.776041" />
      <inertia
        ixx="0.00265"
        ixy="-2E-06"
        ixz="0.000195"
        iyy="0.002337"
        iyz="0"
        izz="0.003495" />
    </inertial>
    <visual>
      <origin
        xyz="0 0 0"
        rpy="0 0 0" />
      <geometry>
        <mesh
          filename="package://HU_D04_description/meshes/HU_D04_01/neck_pitch_link.STL" />
      </geometry>
      <material
        name="">
        <color
          rgba="0.75294 0.75294 0.75294 1" />
      </material>
    </visual>
    <!-- <collision>
      <origin
        xyz="0 0 0"
        rpy="0 0 0" />
      <geometry>
        <mesh
          filename="package://HU_D04_description/meshes/HU_D04_01/neck_pitch_link.STL" />
      </geometry>
    </collision> -->
  </link>
  <joint name="head_pitch_joint"
    type="revolute">
    <origin
      xyz="0 0 0.0395"
      rpy="0 0 0" />
    <parent
      link="head_yaw_link" />
    <child
      link="head_pitch_link" />
    <axis
      xyz="0 1 0" />
    <limit
      lower="-0.524"
      upper="0.785"
      effort="19"
      velocity="13" />
  </joint>

  <!-- Camera -->
  <!-- <joint name="waist_camera_joint" type="fixed">
    <origin rpy="0.0 2.1818 0.0" xyz="0.092 0.0175 0.2751"/>
    <parent link="waist_pitch_link"/>
    <child link="waist_camera_link"/>
  </joint>
  <link name="waist_camera_link">
    <visual>
        <origin rpy="0 0 0" xyz="0 0 0"/>
        <geometry>
            <mesh filename="package://HU_D04_description/meshes/HU_D04_01/d435_link.STL"/>
        </geometry>
    </visual>
  </link>

  <joint name="head_camera_joint" type="fixed">
    <origin rpy="0.0 1.5708 0.0" xyz="0.07453 0.0175 0.065"/>
    <parent link="head_pitch_link"/>
    <child link="head_camera_link"/>
  </joint>
  <link name="head_camera_link">
    <visual>
        <origin rpy="0 0 0" xyz="0 0 0"/>
        <geometry>
            <mesh filename="package://HU_D04_description/meshes/HU_D04_01/d435_link.STL"/>
        </geometry>
    </visual>
  </link> -->
</robot>
